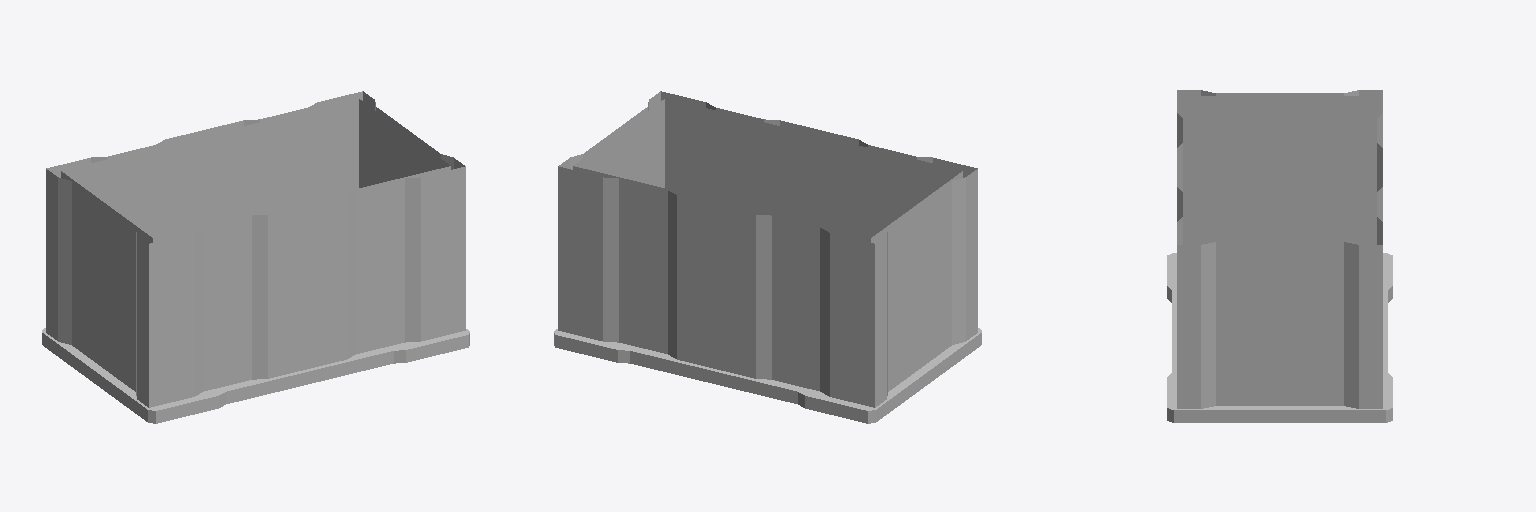
Rendered from trashbinbase.obj.
The picture shows the model from 3 angles: view 1: azimuth 30°, elevation 25°; view 2: azimuth 150°, elevation 25°; view 3: azimuth 270°, elevation 25°; orthographic projection.
Visible parts, largest first — view 1: TrashBinBase; view 2: TrashBinBase; view 3: TrashBinBase.
Part boxes in pixels (x1,y1,x2,y2): TrashBinBase: (42,91,469,423); TrashBinBase: (554,91,981,423); TrashBinBase: (1167,90,1392,422).
Size of the model in its own units: 62.36 by 32.75 by 37.77.